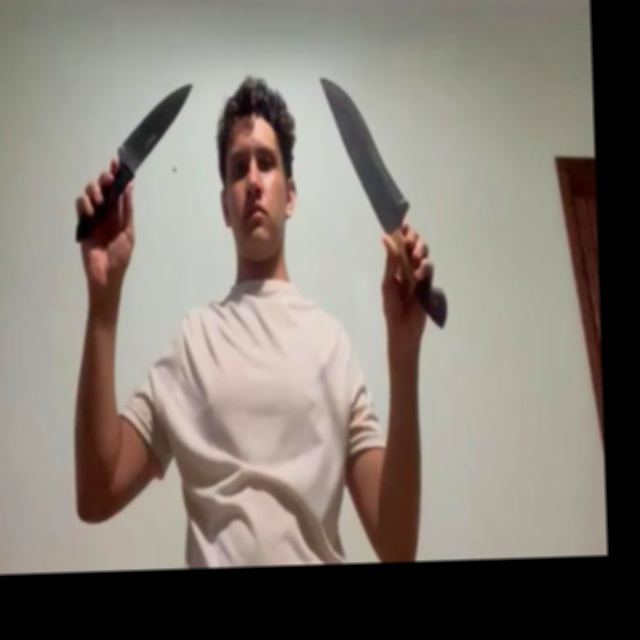Sharp-Object: (319, 72, 411, 217), (118, 81, 194, 171)
